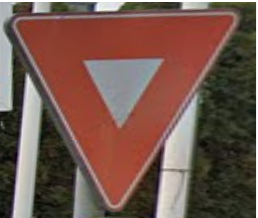cedeaza: (4, 5, 237, 212)
